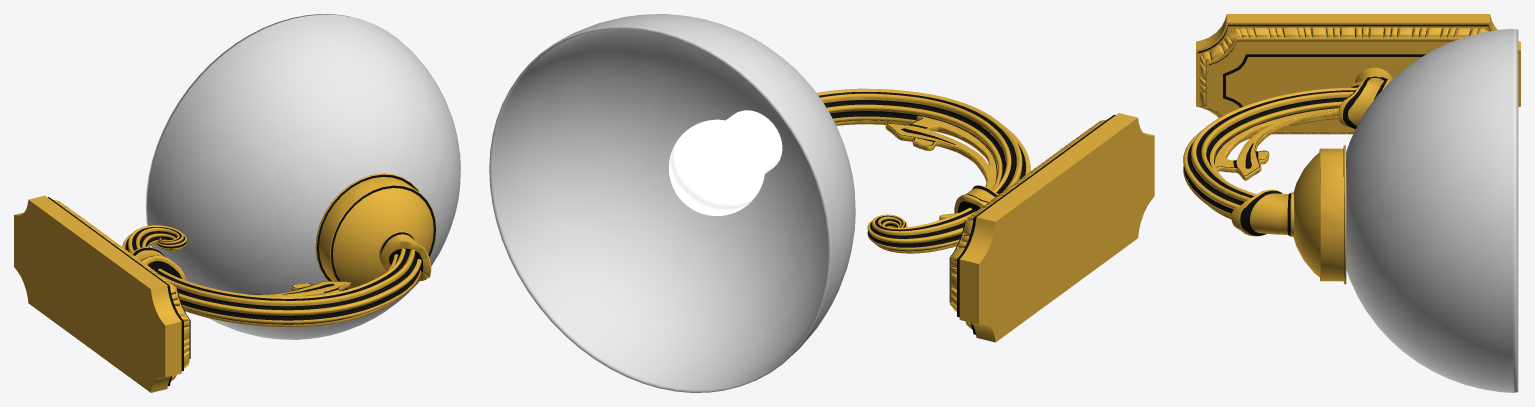
The model's file is sconce.glb.
3 views of the same model, side by side, from view 1: azimuth 30°, elevation 25°; view 2: azimuth 150°, elevation 25°; view 3: azimuth 270°, elevation 25° (orthographic). The views are drawn at different scales.
Parts seen in each view (by area): view 1: plaf.002, ocnova; view 2: plaf.002, ocnova, lamp; view 3: plaf.002, ocnova.
Part boxes in pixels (box(x1,y1,x2,y2)): plaf.002: box(145, 14, 460, 339); ocnova: box(14, 173, 436, 392); plaf.002: box(489, 14, 855, 392); ocnova: box(817, 88, 1154, 342); lamp: box(669, 110, 782, 215); plaf.002: box(1346, 29, 1518, 392); ocnova: box(1183, 14, 1520, 284).
Size of the model in its own units: 0.2561 by 0.1776 by 0.1646.
